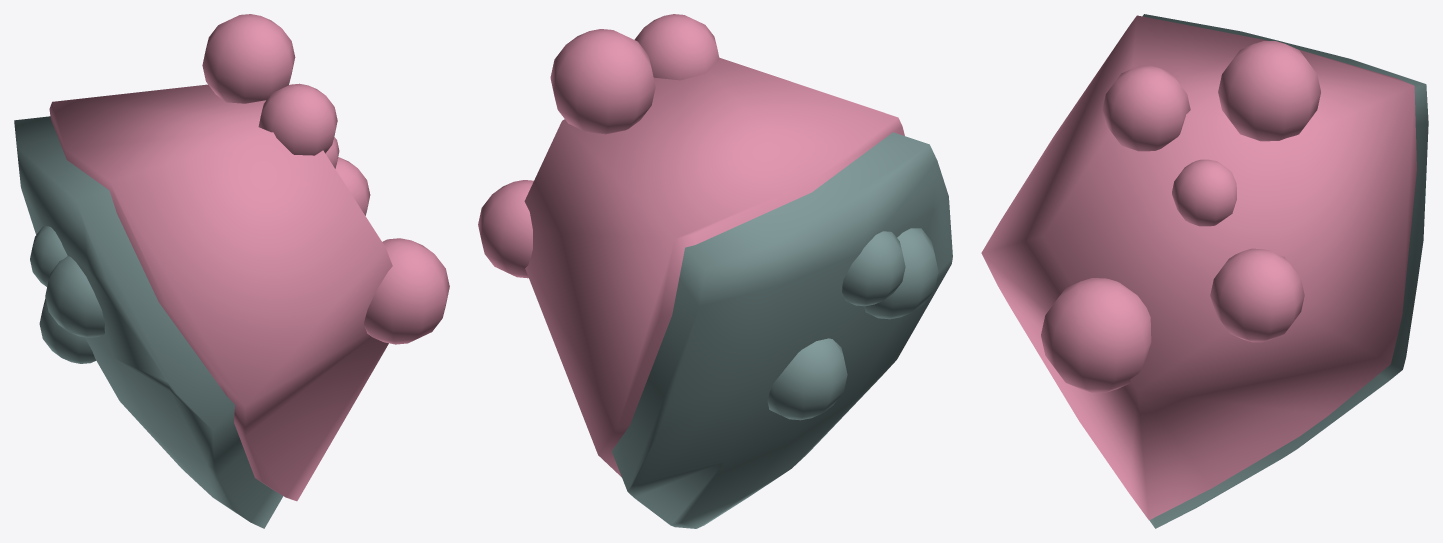
The model's file is chunk22.glb.
3 views of the same model, side by side, from view 1: azimuth 30°, elevation 25°; view 2: azimuth 150°, elevation 25°; view 3: azimuth 270°, elevation 25° (orthographic). The views are drawn at different scales.
Visible parts, largest first — view 1: flesh, skin; view 2: flesh, skin; view 3: flesh, skin.
Part boxes in pixels (x1,y1,x2,y2): flesh: [49, 14, 449, 501]; skin: [14, 116, 283, 528]; flesh: [478, 14, 904, 477]; skin: [611, 132, 952, 528]; flesh: [981, 15, 1416, 520]; skin: [1142, 14, 1428, 528].
Bounding box in the file's own units: 0.7041 × 0.8729 × 0.7032.
